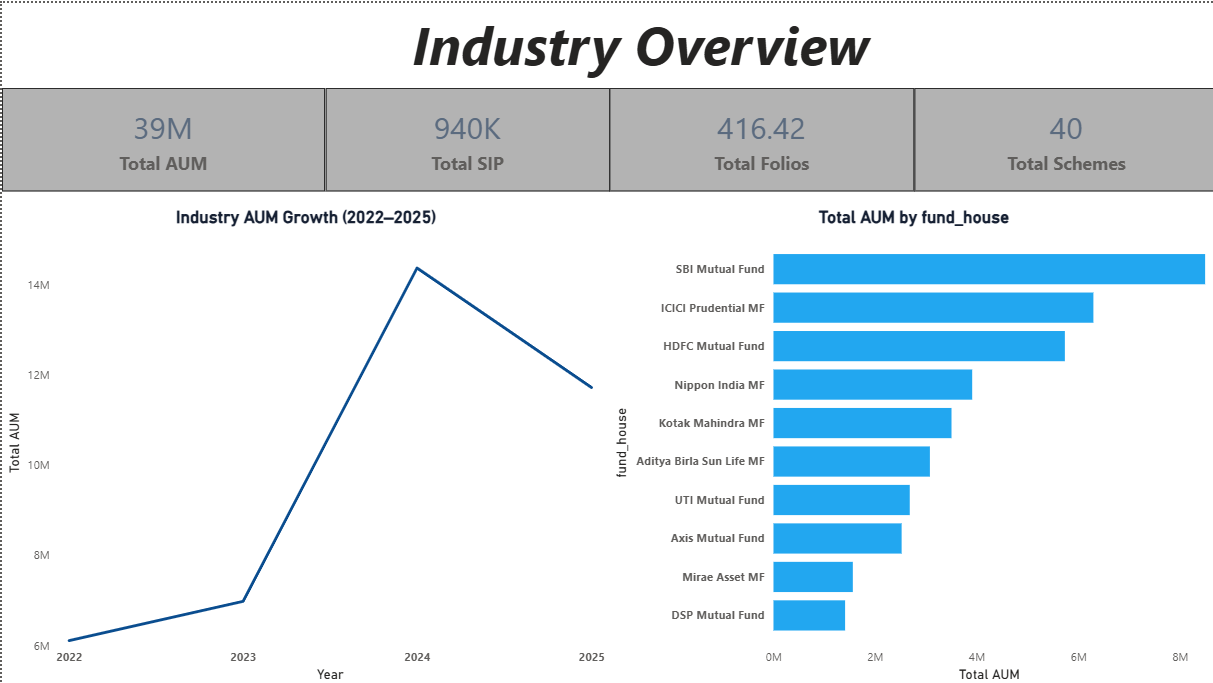

The dashboard page shown, as its layout file describes it:
{"tool":"powerbi","page":{"name":"Industry Overview","canvas":[1280,720],"ordinal":0},"visuals":[{"type":"card","fields":{"Values":["AUM.Total AUM"]},"box":[0,89.2,340.3,108.4],"z":0},{"type":"card","fields":{"Values":["AUM.Total SIP"]},"box":[340.3,89.2,299.1,108.4],"z":1000},{"type":"card","fields":{"Values":["AUM.Total Folios"]},"box":[639.5,89.2,321.1,108.4],"z":2000},{"type":"lineChart","title":"Industry AUM Growth (2022–2025)","fields":{"Category":["AUM.date.Variation.Date Hierarchy.Year"],"Y":["AUM.Total AUM"]},"box":[0,214.7,639.7,505.9],"z":3000},{"type":"clusteredBarChart","fields":{"Category":["AUM.fund_house"],"Y":["AUM.Total AUM"]},"box":[639.7,214.7,641.2,505.9],"z":4000},{"type":"textbox","box":[142.7,0,1060.7,89.2],"z":5000},{"type":"card","fields":{"Values":["AUM.Total Schemes"]},"box":[960.3,89.7,320.6,108.8],"z":6000}]}

Visuals, with their boxes in screenshot pixels (x1, y1, x2, y2), scaled from the page's 1280x720 canvas onto the 1213x683 screenshot:
card - AUM.Total AUM: BBox(0, 85, 322, 187)
card - AUM.Total SIP: BBox(322, 85, 606, 187)
card - AUM.Total Folios: BBox(606, 85, 910, 187)
"Industry AUM Growth (2022–2025)" lineChart: BBox(0, 204, 606, 682)
clusteredBarChart - AUM.fund_house x AUM.Total AUM: BBox(606, 204, 1212, 682)
textbox: BBox(135, 0, 1140, 85)
card - AUM.Total Schemes: BBox(910, 85, 1212, 188)
